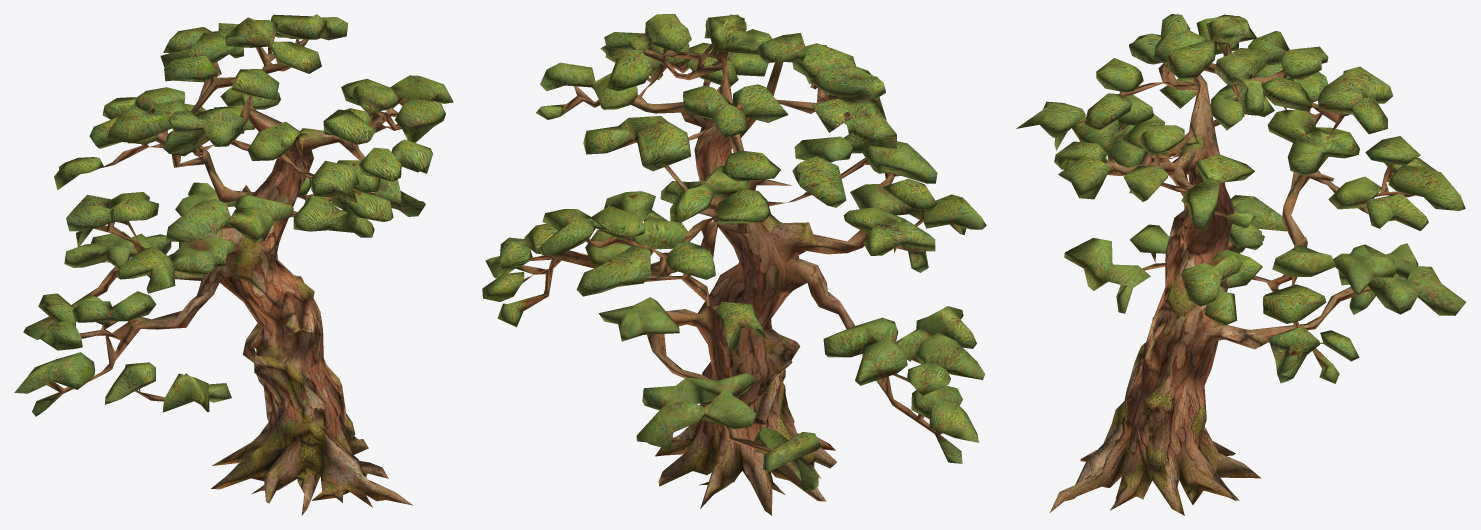
The model's file is woodland-tree-three.glb.
3 renders of one model, left to right at view 1: azimuth 30°, elevation 25°; view 2: azimuth 150°, elevation 25°; view 3: azimuth 270°, elevation 25°, orthographic. The views are drawn at different scales.
Visible parts, largest first — view 1: tripo_node_20edf53c-b808-4224-931b-208037183809; view 2: tripo_node_20edf53c-b808-4224-931b-208037183809; view 3: tripo_node_20edf53c-b808-4224-931b-208037183809.
Boxes of the visible parts, bbox=[...] form: tripo_node_20edf53c-b808-4224-931b-208037183809: bbox=[14, 14, 453, 515]; tripo_node_20edf53c-b808-4224-931b-208037183809: bbox=[482, 14, 986, 515]; tripo_node_20edf53c-b808-4224-931b-208037183809: bbox=[1016, 14, 1466, 515].
Bounding box in the file's own units: 0.9787 × 0.9621 × 0.8542.
1 material, 1 textured.
